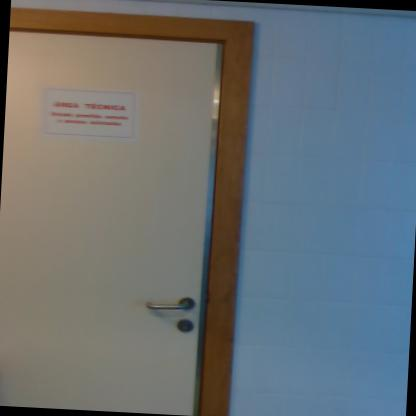closed: (0, 0, 257, 413)
